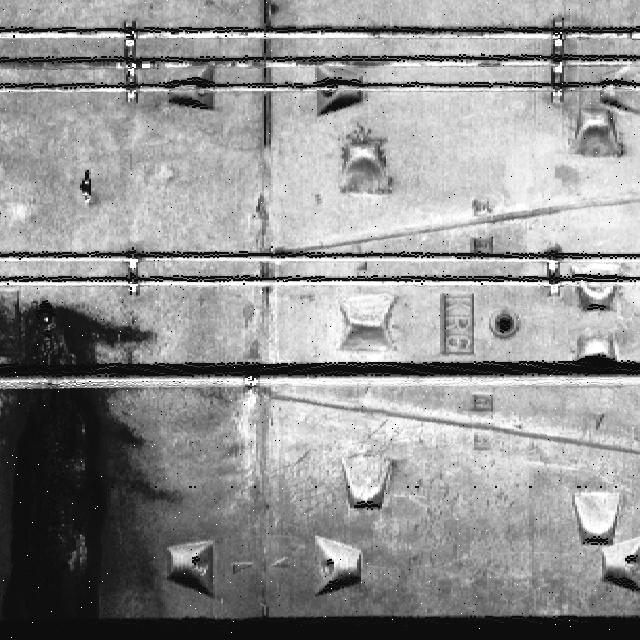leakage: (1, 298, 179, 640)
